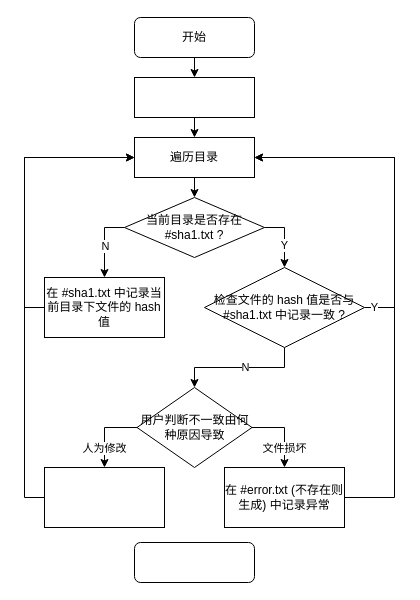
This 420x600 diagram has some shape labels left out. The shapes that lost their labels are listed below. From the top down, each one's centre as x and y in pixels, then its label:
(194,97): 选择基目录
(104,497): 在 #sha1.txt 中修改文件 hash 值
(194,562): 遍历完所有目录, 程序结束
